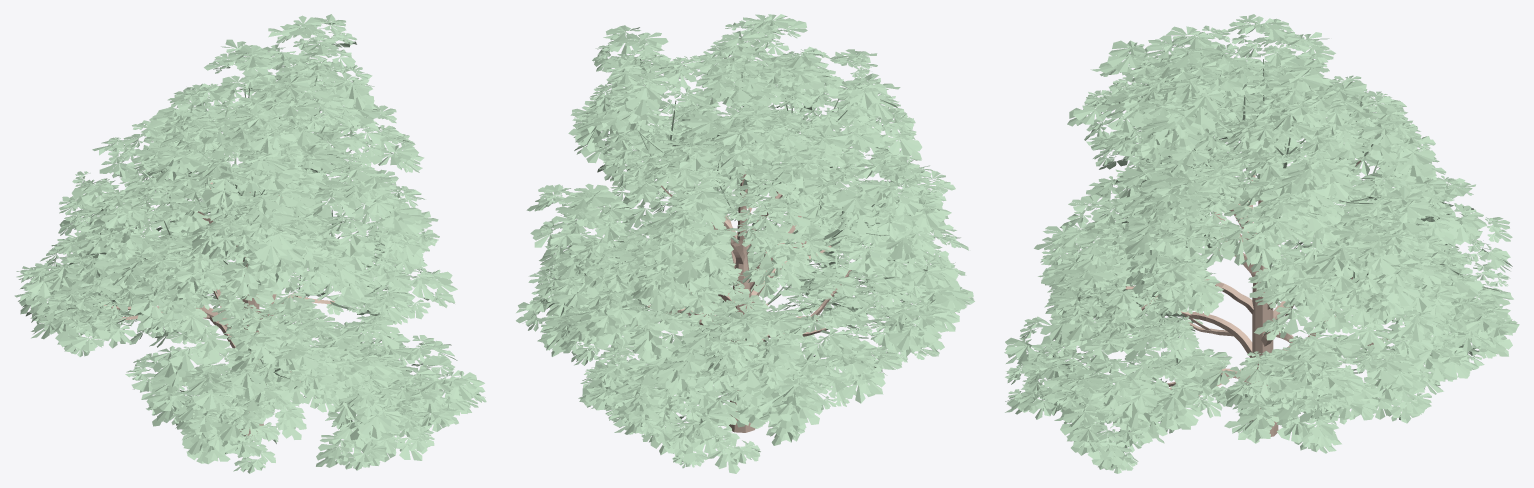
File: каштан 1.fbx
3 renders of one model, left to right at view 1: azimuth 30°, elevation 25°; view 2: azimuth 150°, elevation 25°; view 3: azimuth 270°, elevation 25°, orthographic. The views are drawn at different scales.
Parts seen in each view (by area): view 1: Horse-chestnut N051218; view 2: Horse-chestnut N051218; view 3: Horse-chestnut N051218.
Boxes of the visible parts, x1=… form: Horse-chestnut N051218: x1=14, y1=14, x2=486, y2=473; Horse-chestnut N051218: x1=516, y1=14, x2=974, y2=473; Horse-chestnut N051218: x1=1004, y1=14, x2=1519, y2=473.
Bounding box in the file's own units: 4898 × 4568 × 5204.
